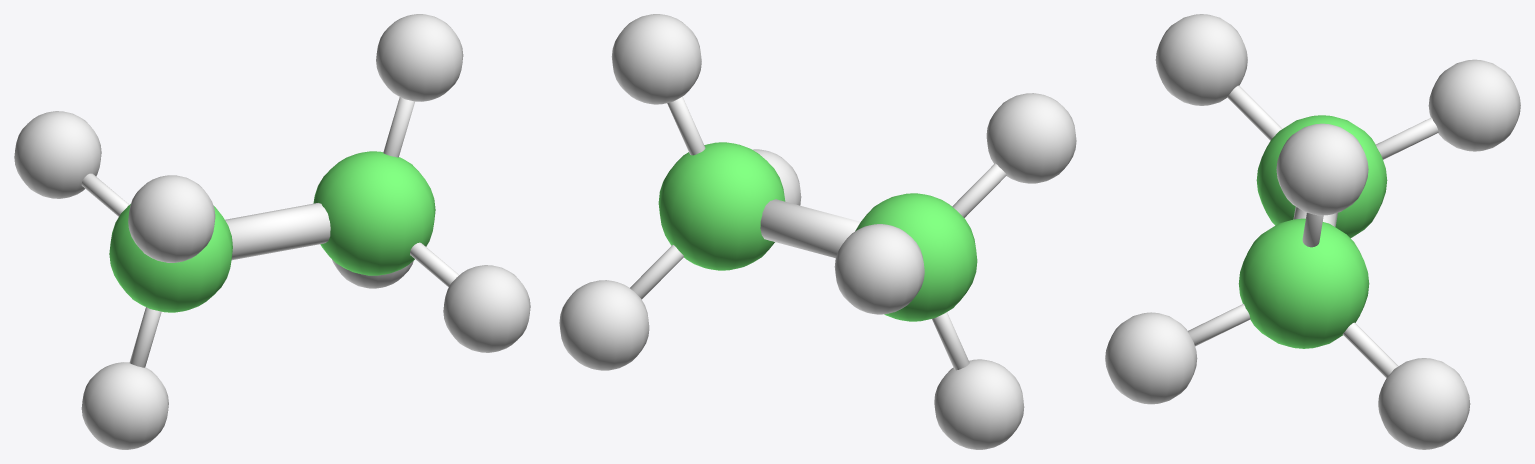
File: Ethane.fbx
3 views of the same model, side by side, from view 1: azimuth 30°, elevation 25°; view 2: azimuth 150°, elevation 25°; view 3: azimuth 270°, elevation 25° (orthographic). The views are drawn at different scales.
Visible parts, largest first — view 1: Shape_Sphere, Shape_Sphere.001, Shape_Sphere.006, Shape_Sphere.002, Shape_Sphere.003, Shape_Sphere.005, Shape_Sphere.007, Shape_Cylinder, Shape_Cylinder.004, Shape_Cylinder.001, Shape_Cylinder.002, Shape_Sphere.004 (+1 smaller); view 2: Shape_Sphere, Shape_Sphere.001, Shape_Sphere.007, Shape_Sphere.002, Shape_Sphere.004, Shape_Sphere.006, Shape_Sphere.005, Shape_Cylinder, Shape_Cylinder.005, Shape_Cylinder.003, Shape_Cylinder.001, Shape_Sphere.003 (+1 smaller); view 3: Shape_Sphere, Shape_Sphere.002, Shape_Sphere.003, Shape_Sphere.004, Shape_Sphere.007, Shape_Sphere.006, Shape_Sphere.001, Shape_Cylinder.002, Shape_Cylinder.003, Shape_Cylinder.006, Shape_Cylinder.005, Shape_Cylinder.001.
Part boxes in pixels (x1,y1,x2,y2): Shape_Sphere: (313, 151, 435, 275); Shape_Sphere.001: (109, 204, 232, 312); Shape_Sphere.006: (128, 175, 215, 262); Shape_Sphere.002: (376, 14, 463, 101); Shape_Sphere.003: (443, 265, 530, 352); Shape_Sphere.005: (81, 362, 168, 449); Shape_Sphere.007: (14, 111, 101, 198); Shape_Cylinder: (225, 203, 330, 260); Shape_Cylinder.004: (129, 307, 161, 367); Shape_Cylinder.001: (383, 97, 414, 157); Shape_Cylinder.002: (410, 242, 459, 287); Shape_Sphere.004: (332, 259, 413, 288); Shape_Sphere: (658, 142, 785, 270); Shape_Sphere.001: (855, 193, 977, 321); Shape_Sphere.007: (834, 224, 924, 314); Shape_Sphere.002: (611, 14, 701, 104); Shape_Sphere.004: (559, 280, 649, 370); Shape_Sphere.006: (986, 93, 1076, 183); Shape_Sphere.005: (934, 359, 1024, 449); Shape_Cylinder: (760, 199, 860, 258); Shape_Cylinder.005: (952, 163, 1006, 217); Shape_Cylinder.003: (630, 245, 683, 299); Shape_Cylinder.001: (667, 96, 705, 155); Shape_Sphere.003: (752, 149, 801, 205); Shape_Sphere: (1238, 218, 1369, 348); Shape_Sphere.002: (1276, 123, 1368, 215); Shape_Sphere.003: (1105, 312, 1197, 404); Shape_Sphere.004: (1378, 358, 1470, 449); Shape_Sphere.007: (1428, 59, 1520, 151); Shape_Sphere.006: (1155, 14, 1247, 105); Shape_Sphere.001: (1256, 115, 1387, 238); Shape_Cylinder.002: (1188, 304, 1250, 346); Shape_Cylinder.003: (1342, 322, 1398, 377); Shape_Cylinder.006: (1376, 117, 1438, 159); Shape_Cylinder.005: (1227, 85, 1282, 140); Shape_Cylinder.001: (1302, 213, 1323, 247).
Bounding box in the file's own units: 302 × 261 × 271.
